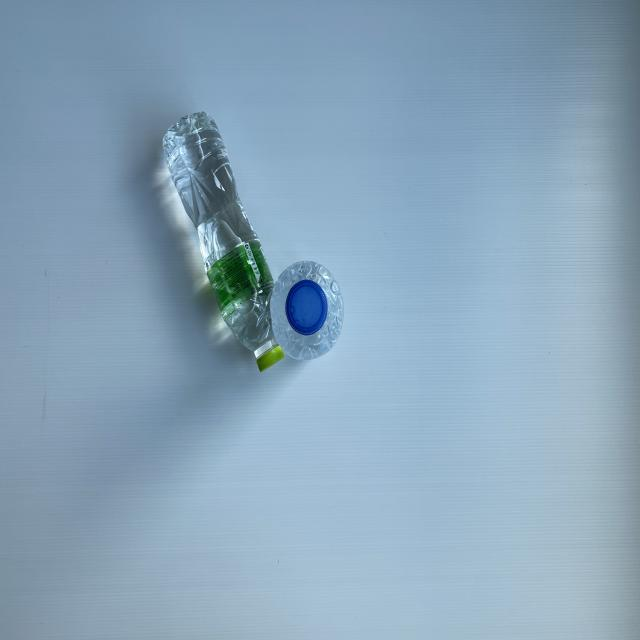water: (163, 110, 284, 372), (271, 261, 344, 361)
